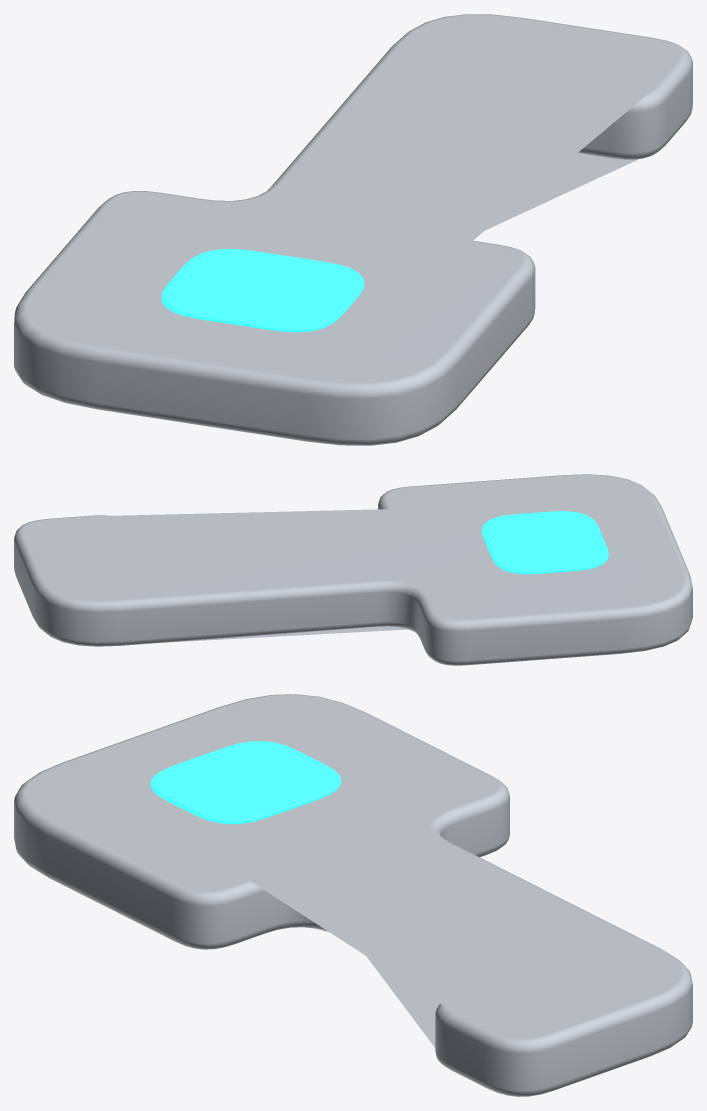
File: AFJ_Key_Emblem.fbx
3 renders of one model, top to bottom at view 1: azimuth 30°, elevation 25°; view 2: azimuth 150°, elevation 25°; view 3: azimuth 270°, elevation 25°, orthographic. The views are drawn at different scales.
Visible parts, largest first — view 1: Minimal_Key_Body, Minimal_Key_Cyan_Inset; view 2: Minimal_Key_Body, Minimal_Key_Cyan_Inset; view 3: Minimal_Key_Body, Minimal_Key_Cyan_Inset.
Part boxes in pixels (bbox=[...]): Minimal_Key_Body: bbox=[14, 14, 692, 445]; Minimal_Key_Cyan_Inset: bbox=[161, 249, 364, 332]; Minimal_Key_Body: bbox=[14, 474, 692, 665]; Minimal_Key_Cyan_Inset: bbox=[481, 511, 608, 574]; Minimal_Key_Body: bbox=[14, 694, 692, 1096]; Minimal_Key_Cyan_Inset: bbox=[150, 741, 341, 824].
Bounding box in the file's own units: 53.29 × 4.45 × 43.3.
